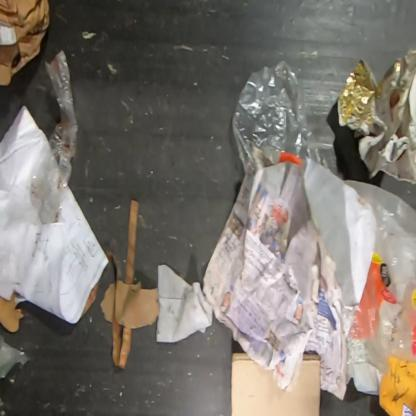cardboard: (231, 351, 320, 416), (0, 0, 53, 89), (0, 288, 27, 335)
soft_plastic: (232, 57, 415, 363), (30, 48, 78, 226), (0, 326, 31, 380)
